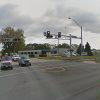Traffic light: (40, 26, 75, 45)
